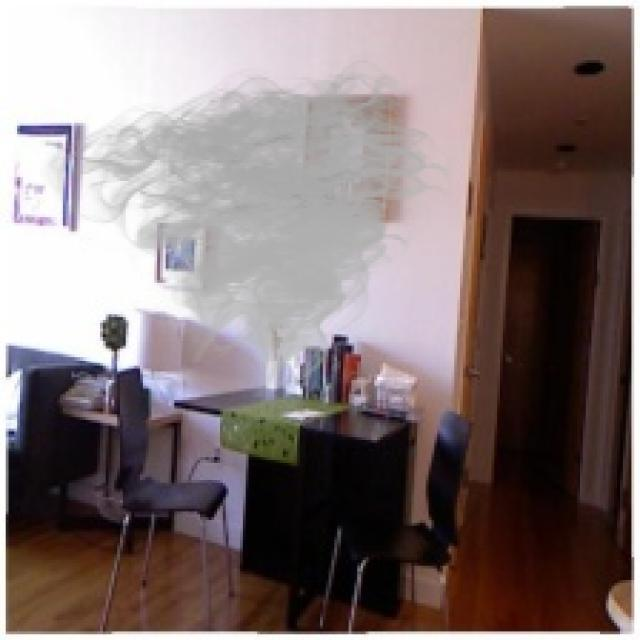Smoke: (40, 52, 466, 397)
